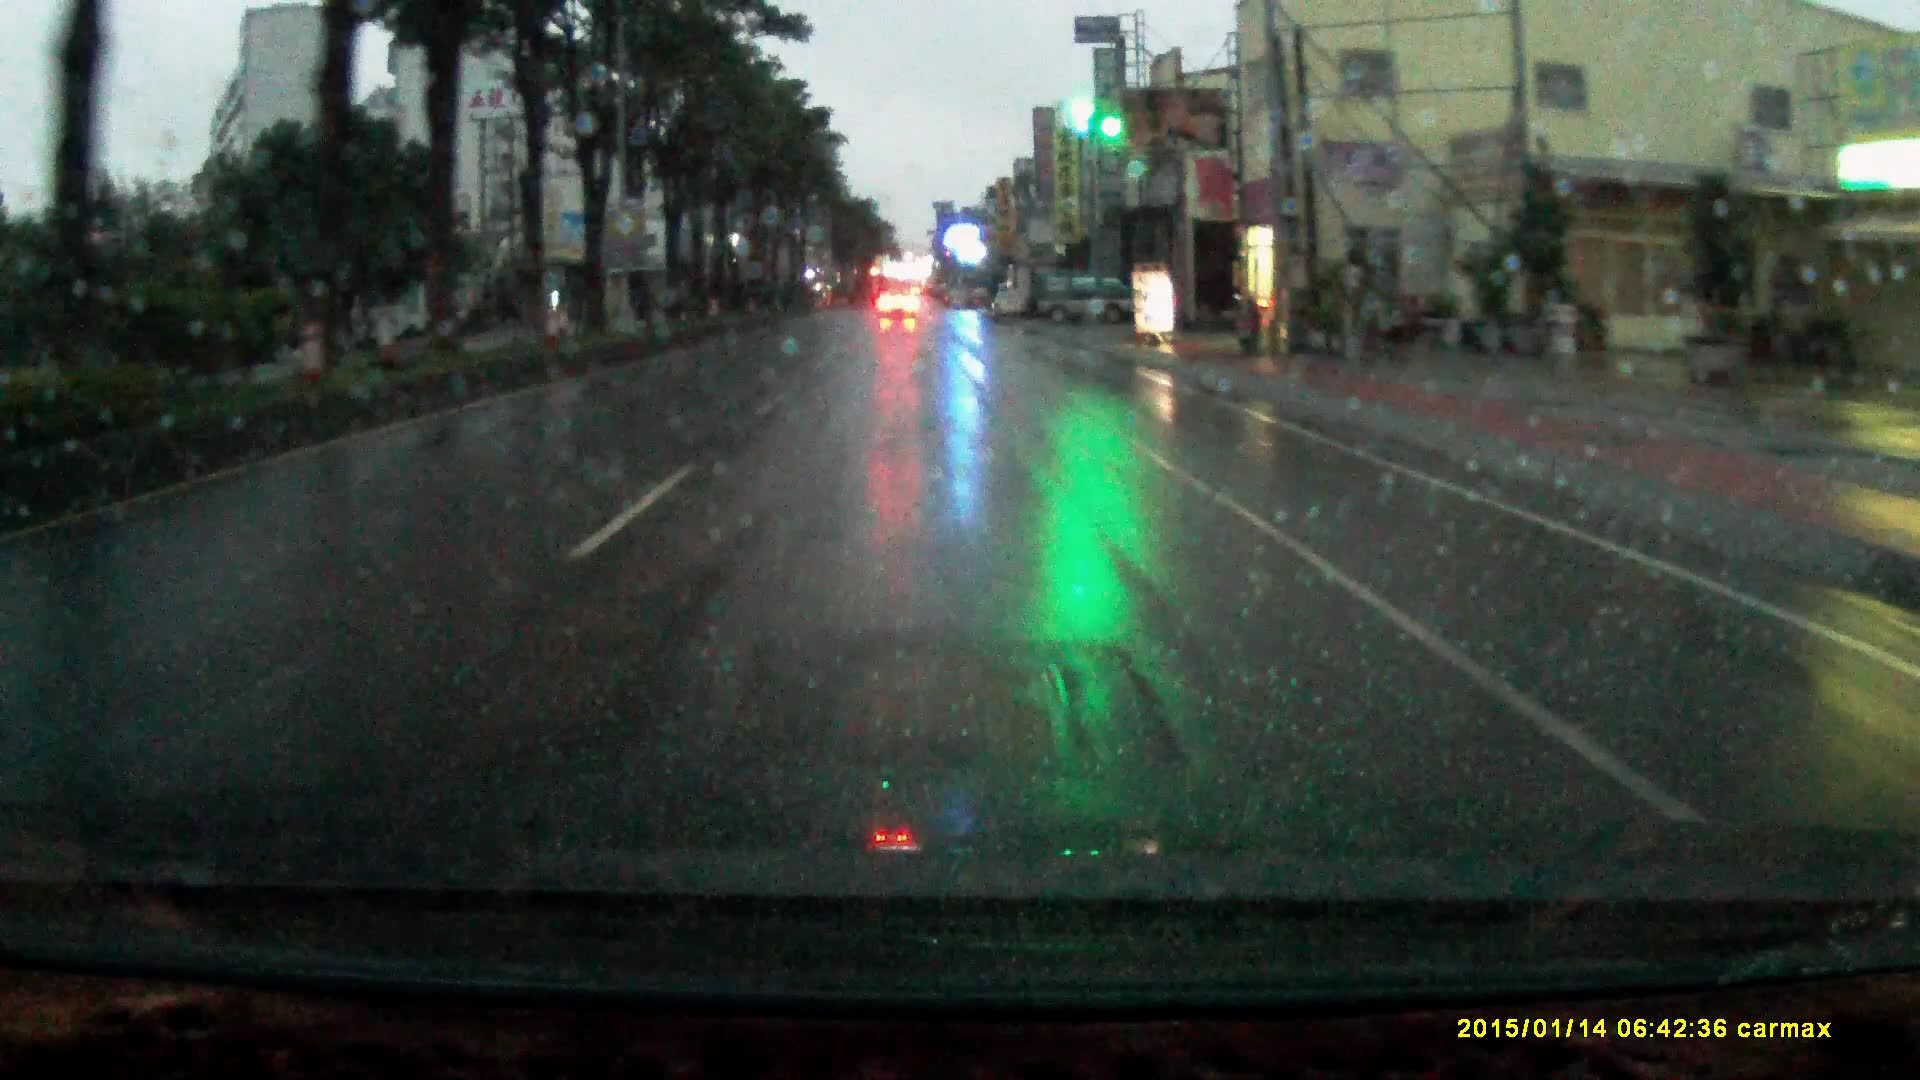vehicle: (1039, 270, 1138, 326), (992, 287, 1033, 324), (880, 291, 924, 324)
